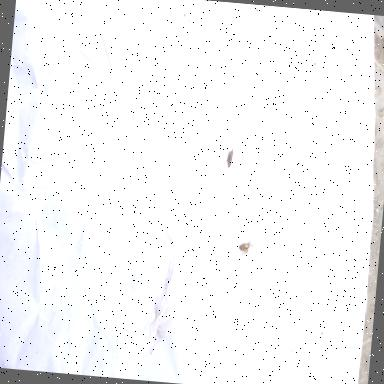pbw: (225, 146, 236, 175), (236, 241, 251, 253)
